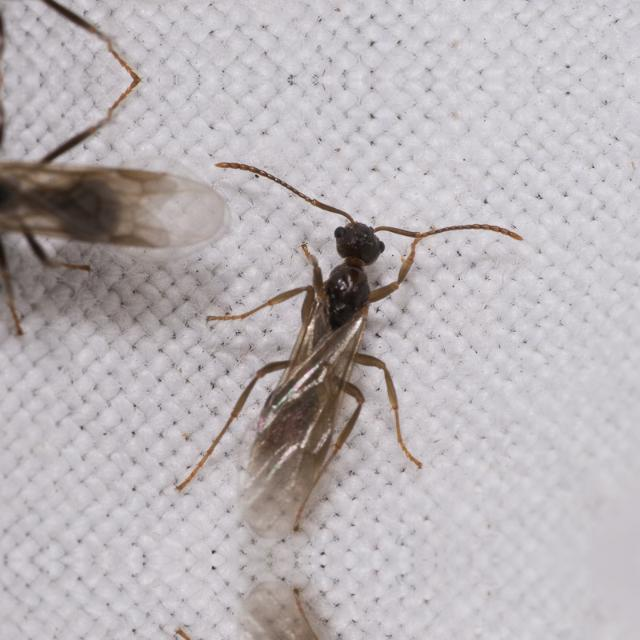Myrmica: (186, 176, 526, 528), (0, 80, 278, 304), (0, 0, 278, 80)
